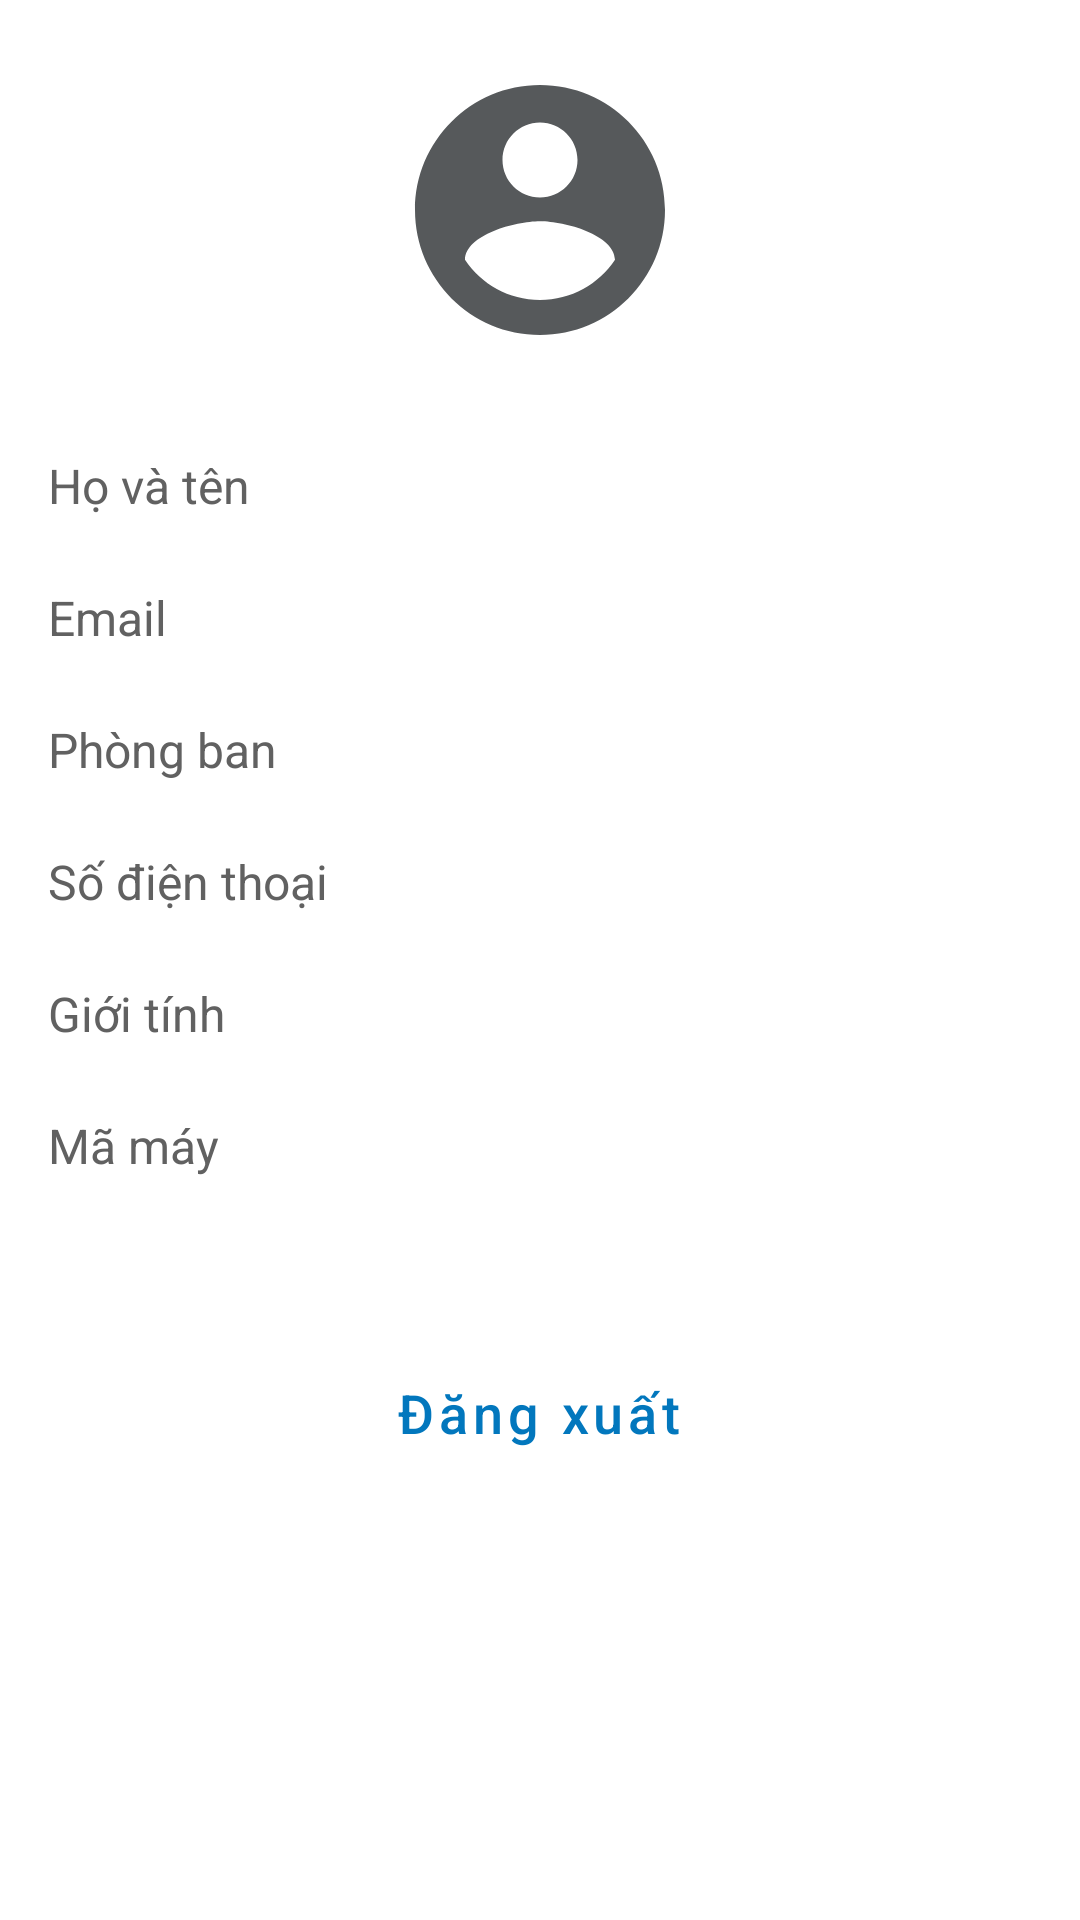

Named icons in this screenshot (1080×1920) and their centers, (x=x, y=y):
account circle: (x=540, y=210)
